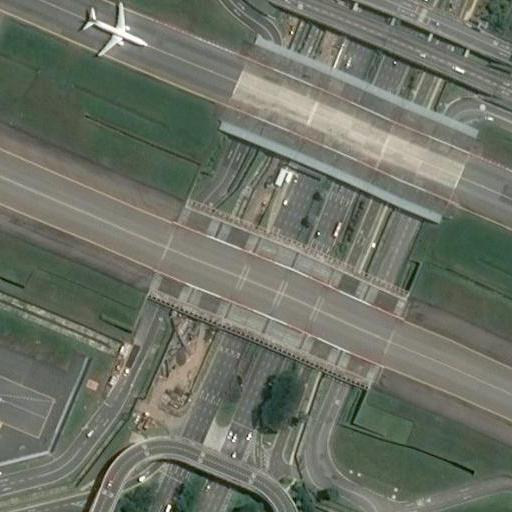Aircraft: (80, 1, 150, 61)
